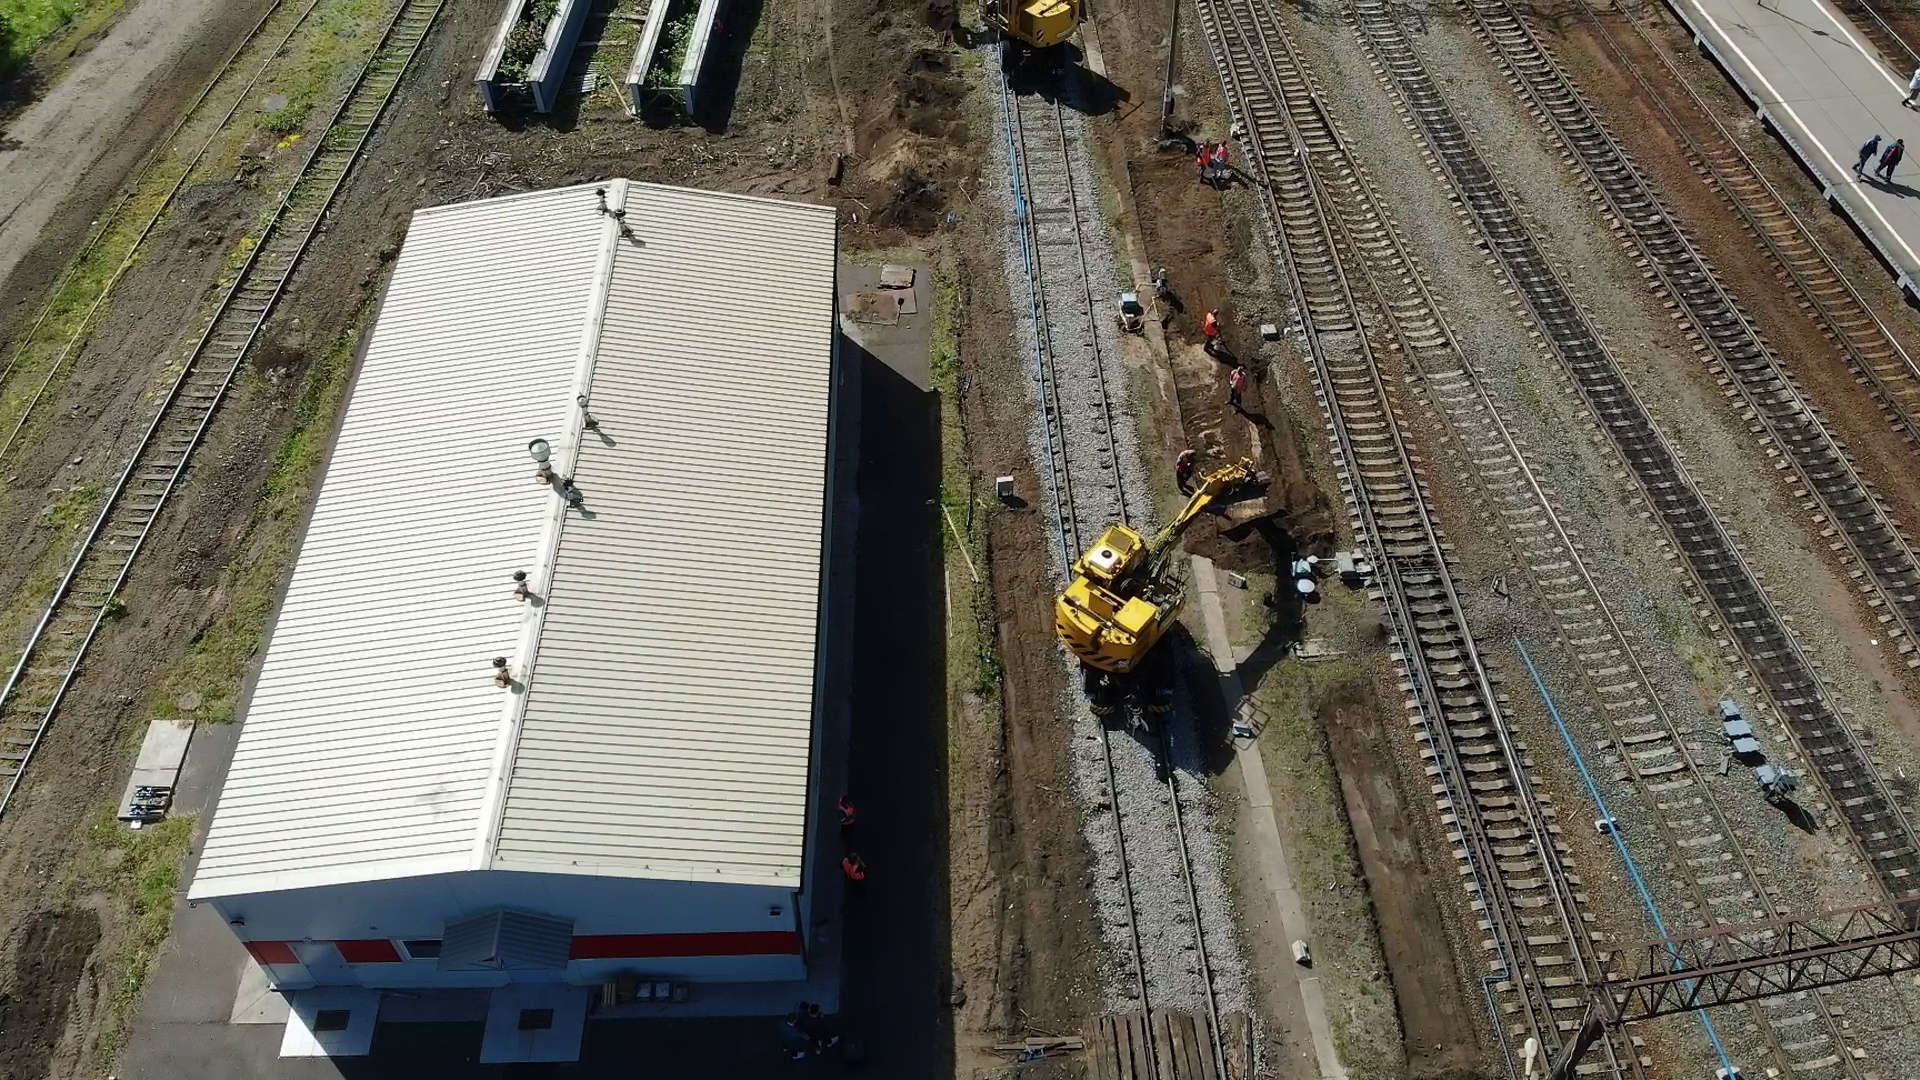kjtv: (1056, 502, 1197, 728)
